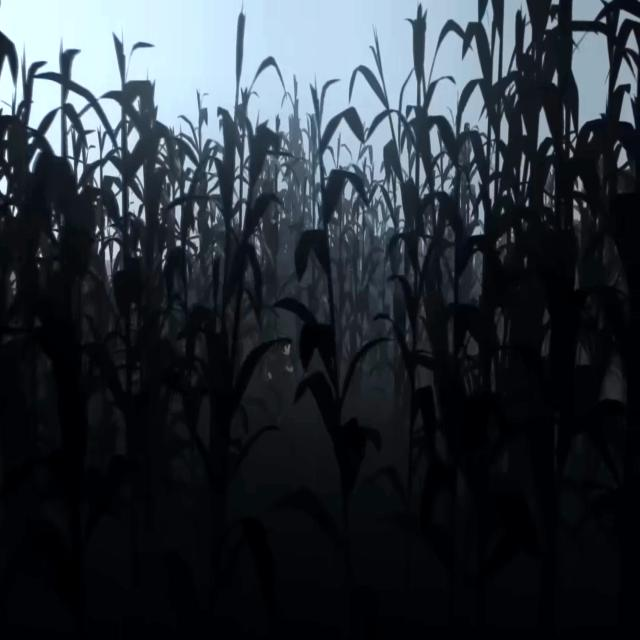boy: (268, 338, 294, 388)
